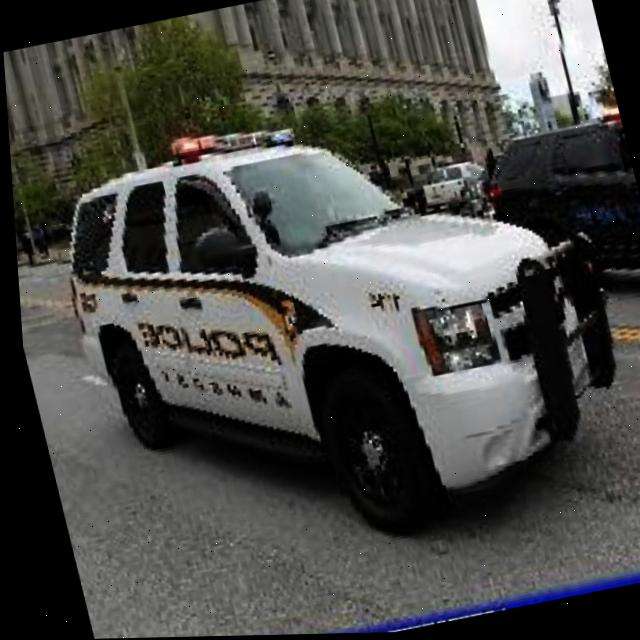emergency: (28, 61, 640, 589)
